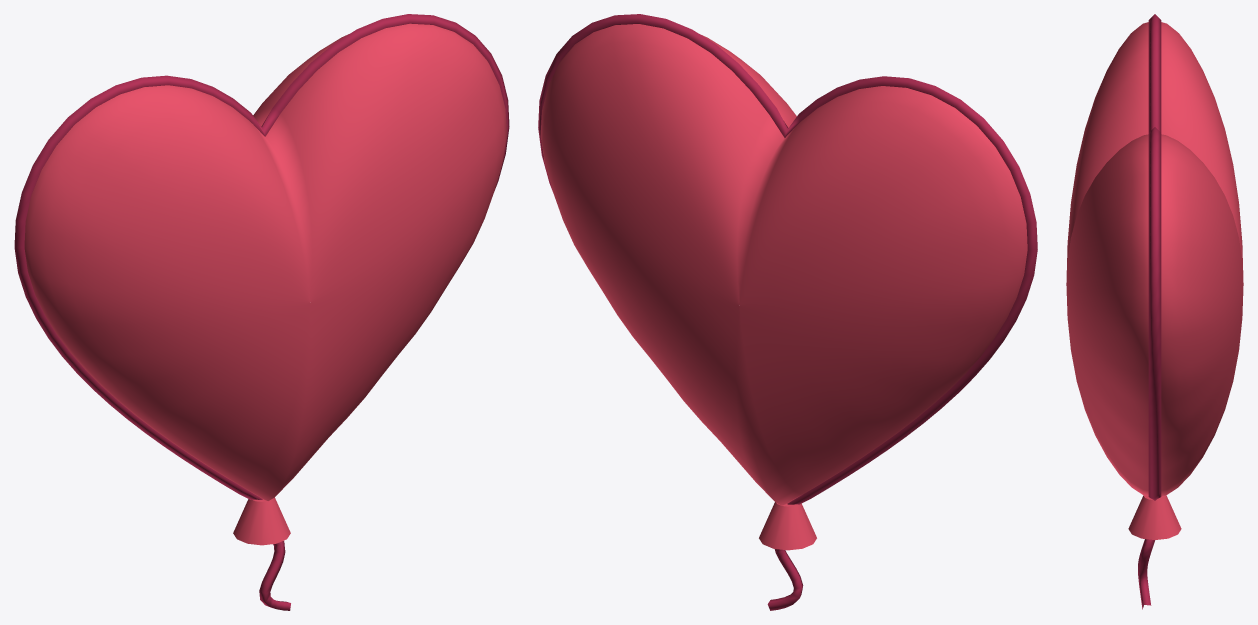
Rendered from balloon-heart.glb.
The picture shows the model from 3 angles, left to right: view 1: azimuth 30°, elevation 25°; view 2: azimuth 150°, elevation 25°; view 3: azimuth 270°, elevation 25°; orthographic projection. The views are drawn at different scales.
Parts seen in each view (by area): view 1: balloon-heart; view 2: balloon-heart; view 3: balloon-heart.
Part boxes in pixels (box(x1,y1,x2,y2)): balloon-heart: box(14, 14, 509, 610); balloon-heart: box(538, 14, 1037, 610); balloon-heart: box(1066, 14, 1243, 609).
Size of the model in its own units: 0.9087 by 0.9897 by 0.306.
